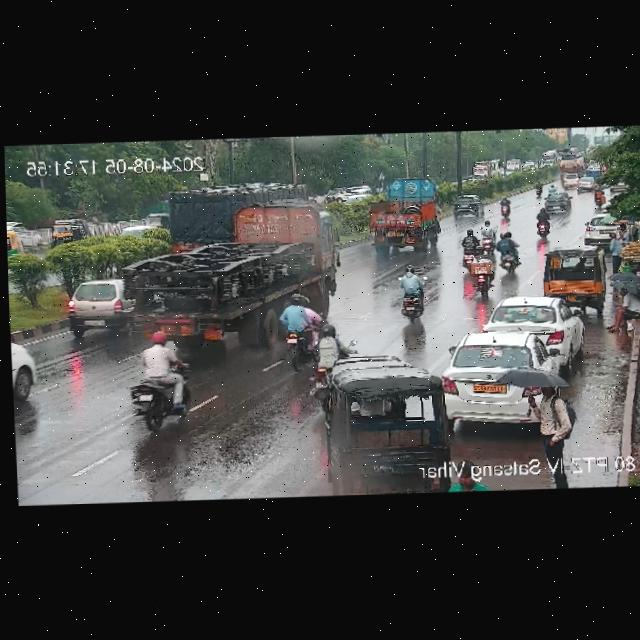car: (317, 354, 453, 487), (440, 332, 564, 402), (482, 294, 577, 353), (540, 246, 608, 307), (62, 277, 129, 335), (582, 214, 635, 244), (322, 182, 384, 202), (50, 218, 88, 241), (453, 193, 484, 218), (7, 225, 21, 260), (573, 176, 596, 192)
motorcycle: (114, 326, 196, 429), (308, 323, 352, 408), (280, 291, 322, 367), (394, 264, 437, 321), (493, 227, 522, 278), (468, 244, 493, 295), (459, 229, 480, 269), (538, 192, 572, 216), (531, 209, 553, 237), (478, 219, 495, 247), (499, 193, 511, 218), (535, 180, 543, 195)
person: (519, 383, 582, 455), (600, 286, 640, 334), (603, 224, 632, 270)
truck: (121, 239, 339, 348), (163, 179, 325, 265), (358, 176, 440, 260)
